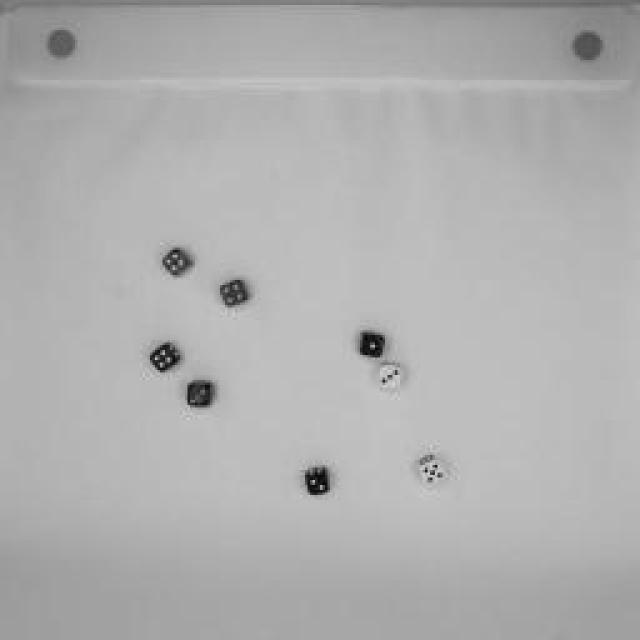dice_1: (355, 325, 390, 360)
dice_2: (302, 464, 332, 498)
dice_3: (183, 376, 215, 414), (370, 360, 405, 392)
dice_4: (147, 339, 185, 376), (218, 275, 252, 313), (161, 245, 194, 280)
dice_5: (410, 445, 450, 493)
